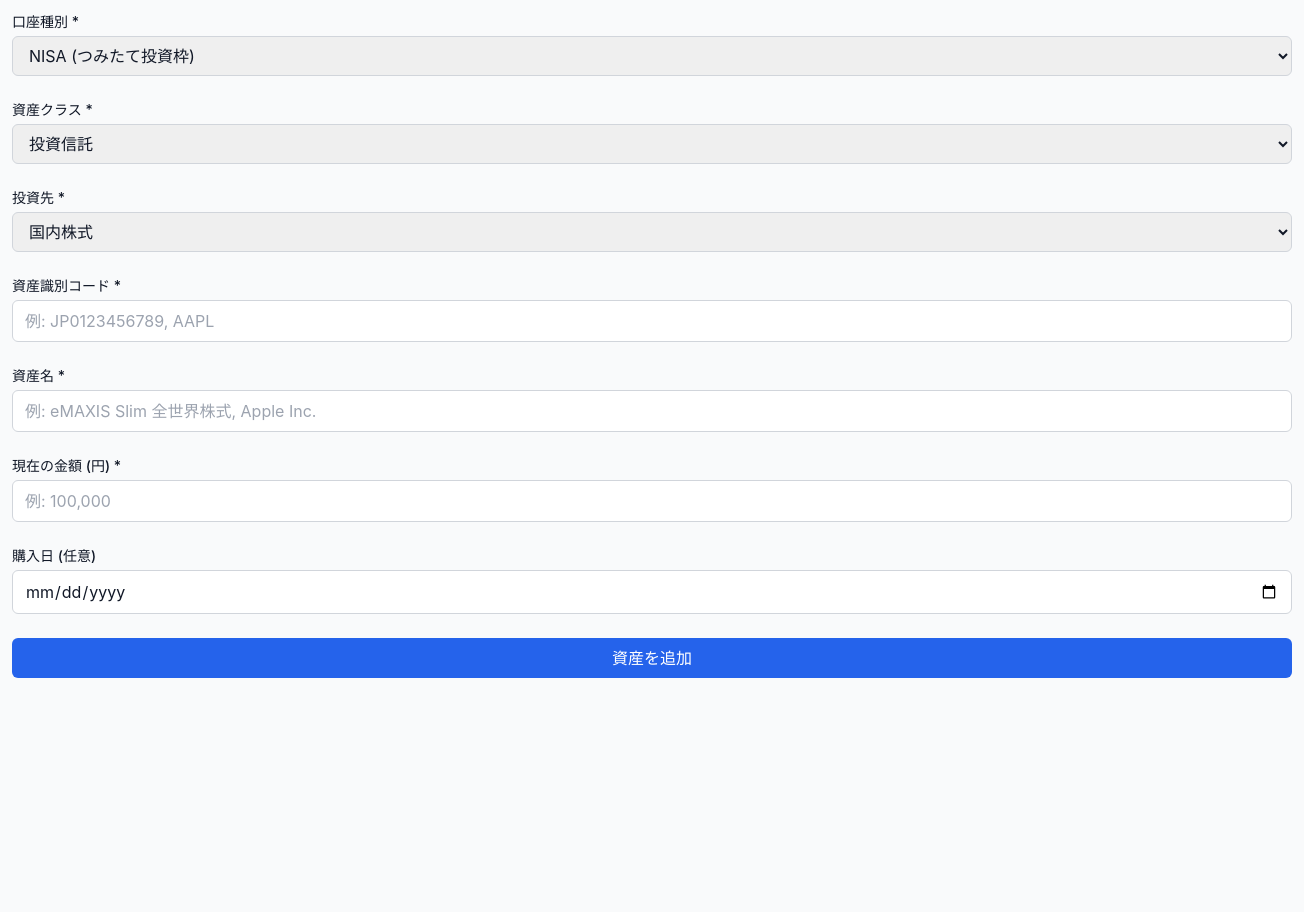
HoldingsForm › validates required fields on submit
Click the button "資産を追加": (652, 658) top-left (12, 638), bottom-right (1292, 678)
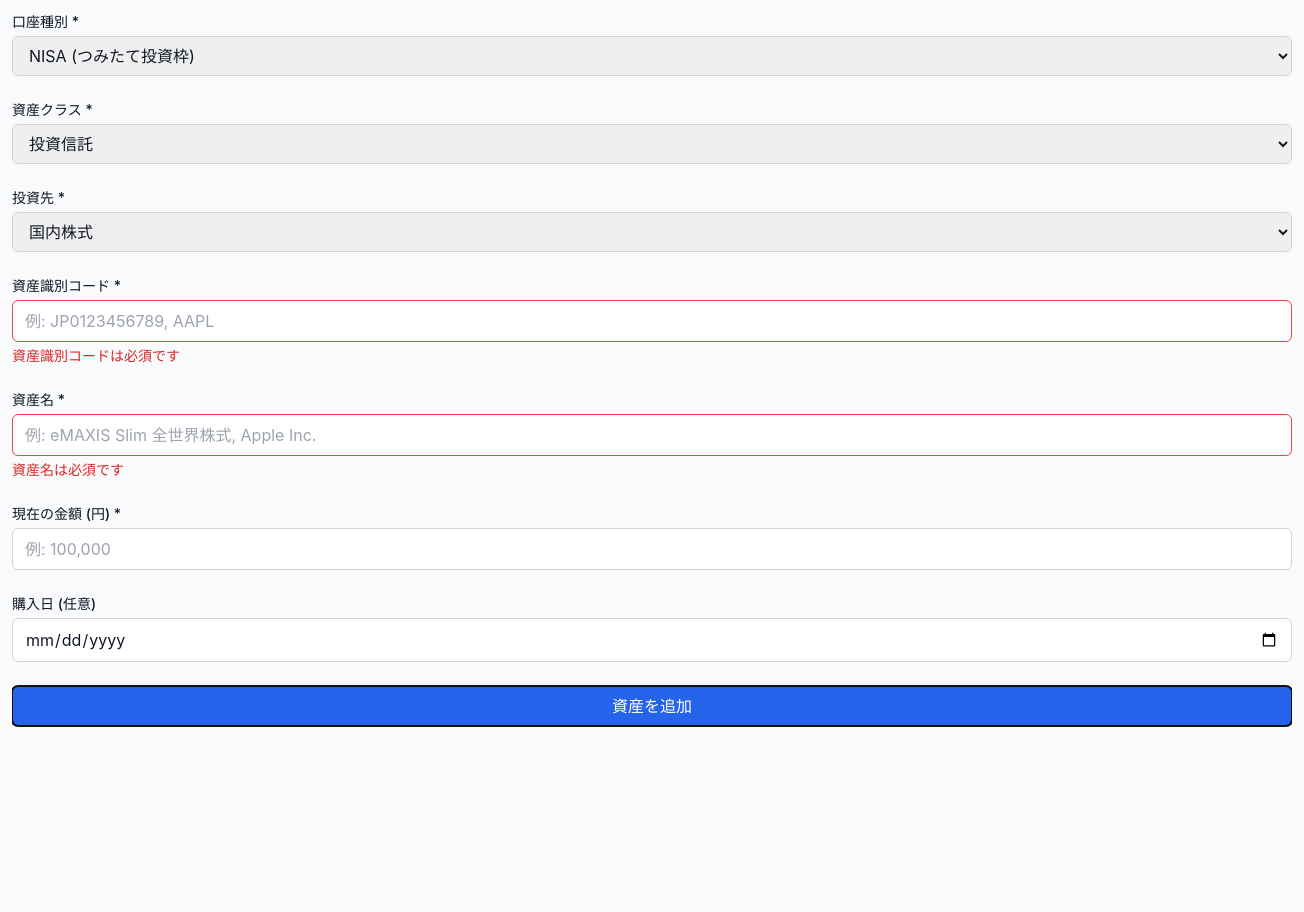
Now the text "資産識別コードは必須です" is shown, box top-left (12, 347), bottom-right (180, 364)
Now the text "資産名は必須です" is shown, box top-left (12, 461), bottom-right (124, 478)
